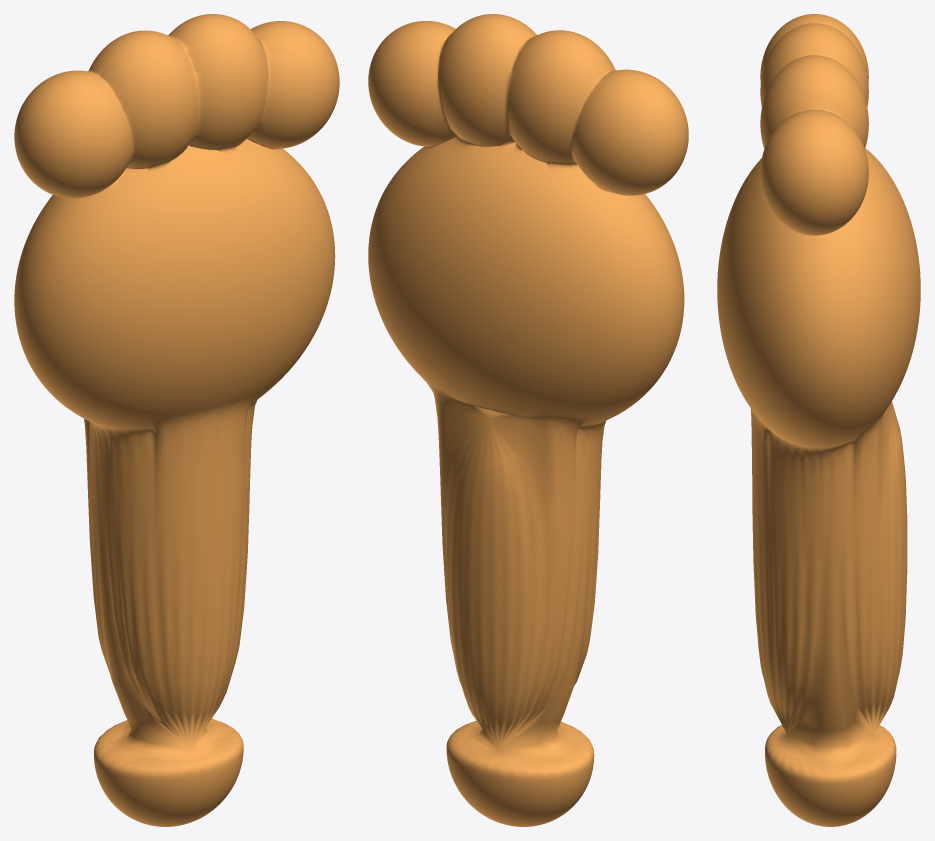
The model's file is paw_ai_v6.glb.
3 renders of one model, left to right at view 1: azimuth 30°, elevation 25°; view 2: azimuth 150°, elevation 25°; view 3: azimuth 270°, elevation 25°, orthographic. The views are drawn at different scales.
Visible parts, largest first — view 1: Paw; view 2: Paw; view 3: Paw.
Part boxes in pixels (x1,y1,x2,y2): Paw: (14, 14, 339, 826); Paw: (368, 14, 688, 826); Paw: (717, 14, 920, 826).
Size of the model in its own units: 0.2396 by 0.5881 by 0.1398.
